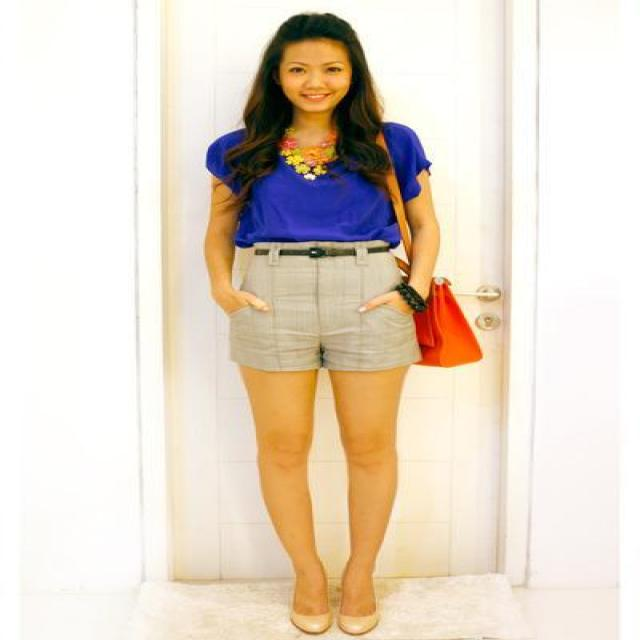bag: (365, 141, 478, 367)
shirt: (207, 122, 430, 248)
shoe: (286, 606, 379, 639)
shorts: (226, 240, 419, 374)
